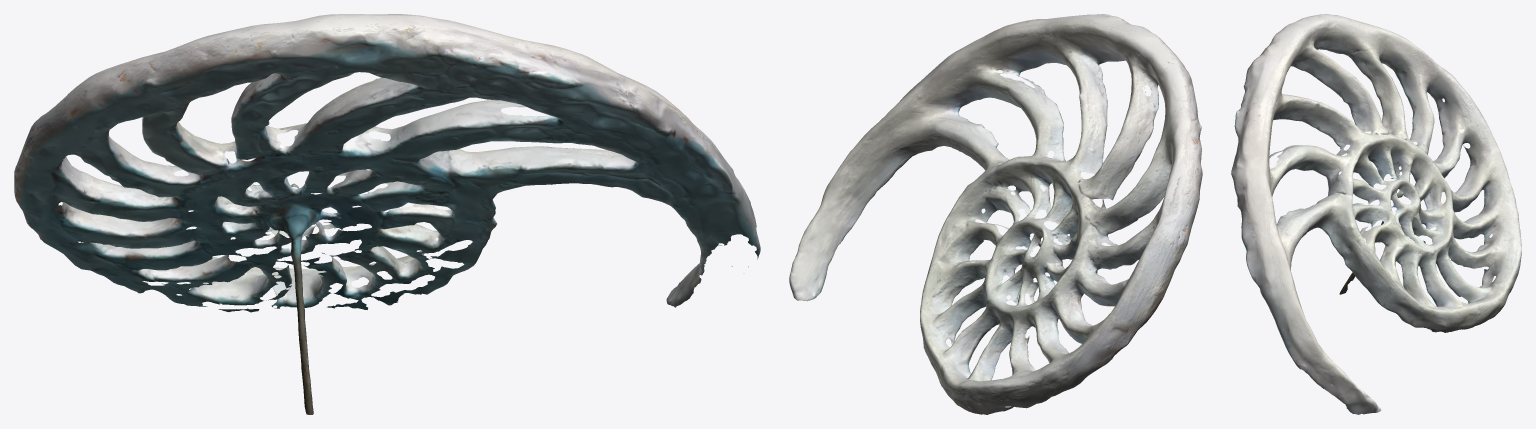
3 renders of one model, left to right at view 1: azimuth 30°, elevation 25°; view 2: azimuth 150°, elevation 25°; view 3: azimuth 270°, elevation 25°, orthographic. The views are drawn at different scales.
Size of the model in its own units: 2.44 by 1.62 by 1.63.
9 materials, 9 textured.
